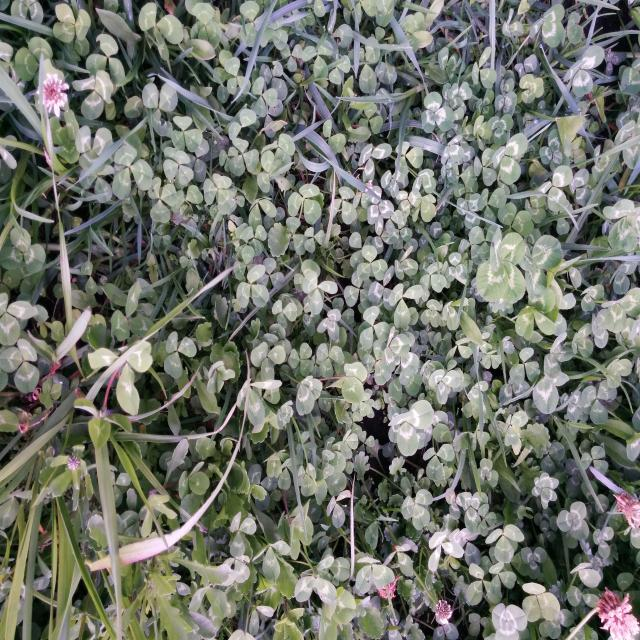Four Leaf Clover: (476, 227, 526, 304)
